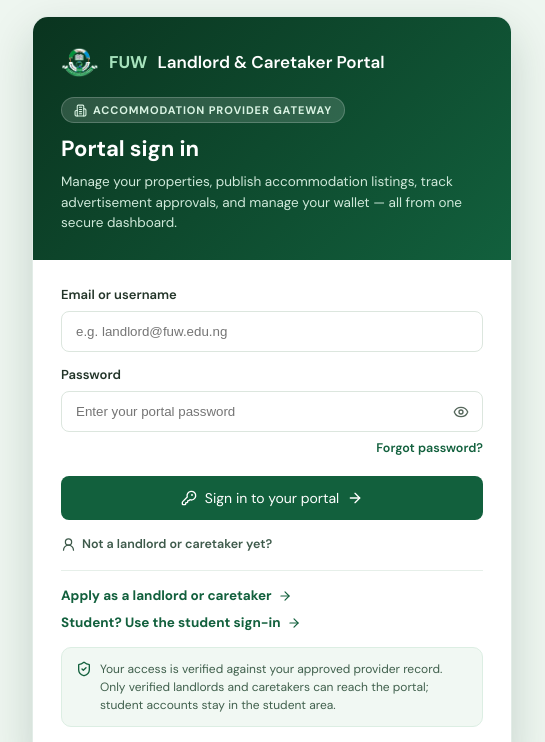
Test: Landlord & Caretaker portal login (/landlord-login) › blocks student accounts with a clear message instead of opening the provider portal
Step 1. Type "some.student.001" into the field with placeholder "e.g. landlord@fuw.edu.ng" → point(272, 332), box [61,311,483,352]
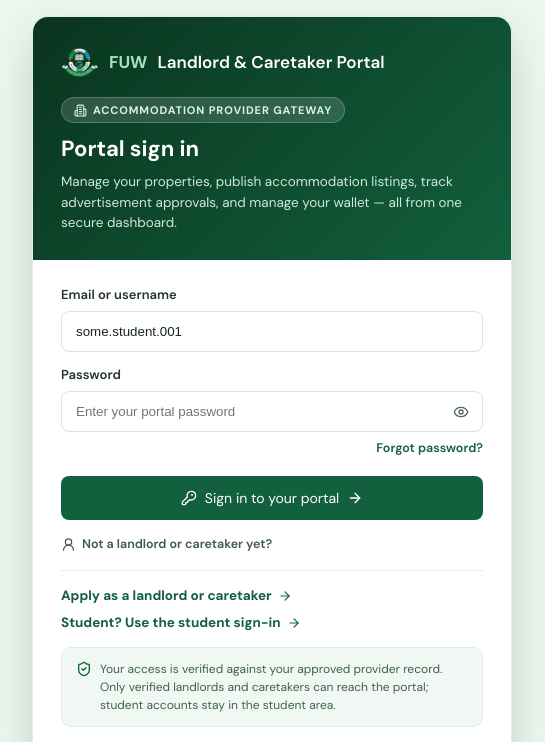
Step 2. Type "StudentPass#1" into the password field with placeholder "Enter your portal password" → point(272, 412), box [61,391,483,432]
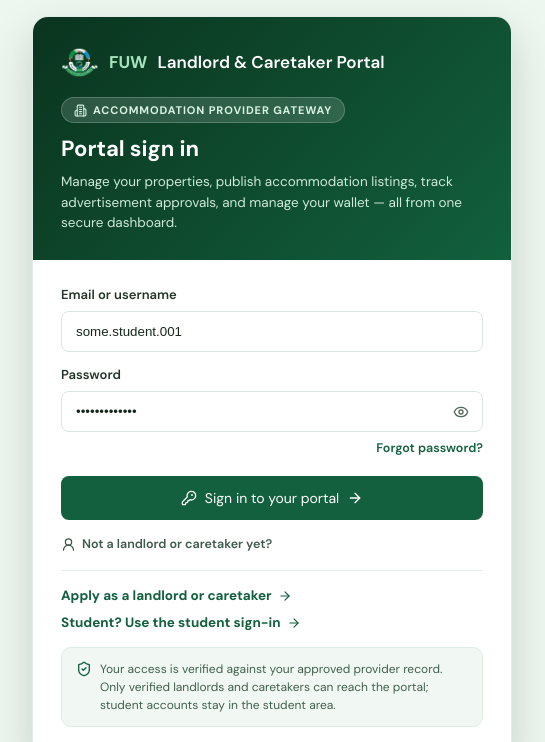
Step 3. Click the button "Sign in to your portal" → point(272, 498), box [61,476,483,520]
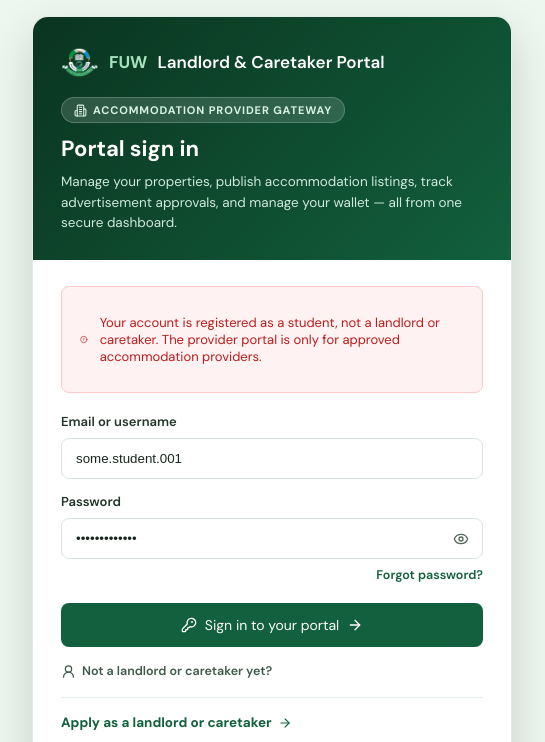
Expected: the message shows "registered as a student", [100,314,440,365]
